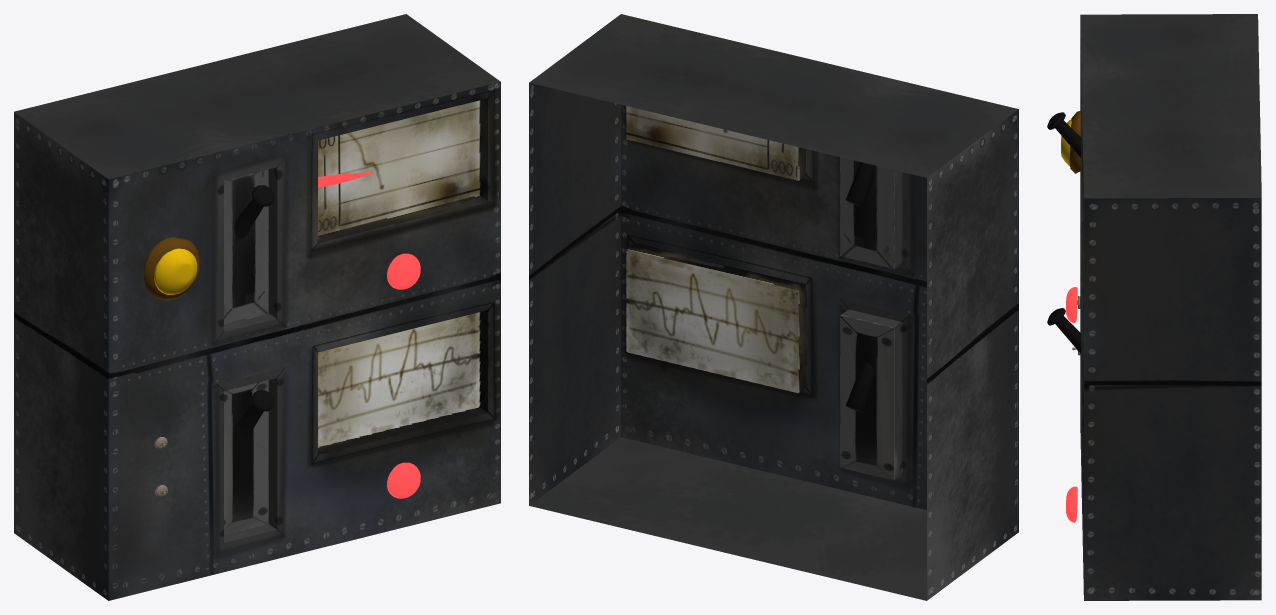
Rendered from Panel_left.fbx.
3 renders of one model, left to right at view 1: azimuth 30°, elevation 25°; view 2: azimuth 150°, elevation 25°; view 3: azimuth 270°, elevation 25°, orthographic. The views are drawn at different scales.
Visible parts, largest first — view 1: polySurface15, polySurface17, button2, lever_transform1, lever_transform3, light_transform1, light_transform3; view 2: polySurface15, lever_transform3, lever_transform1; view 3: polySurface15, lever_transform3, lever_transform1, button2, light_transform3, light_transform1.
Part boxes in pixels (x1,y1,x2,y2): polySurface15: (14,14,500,600); polySurface17: (154,248,197,294); button2: (143,237,200,300); lever_transform1: (234,185,274,238); lever_transform3: (234,390,274,443); light_transform1: (387,253,420,289); light_transform3: (387,462,420,498); polySurface15: (529,14,1018,600); lever_transform3: (846,362,874,412); lever_transform1: (846,162,874,206); polySurface15: (1080,14,1261,600); lever_transform3: (1047,308,1081,353); lever_transform1: (1047,112,1081,158); button2: (1069,111,1080,173); light_transform3: (1066,486,1077,522); light_transform1: (1066,287,1077,323).
Size of the model in its own units: 7.71 by 7.84 by 3.79.
Materials: 6 (1 with a texture image).
